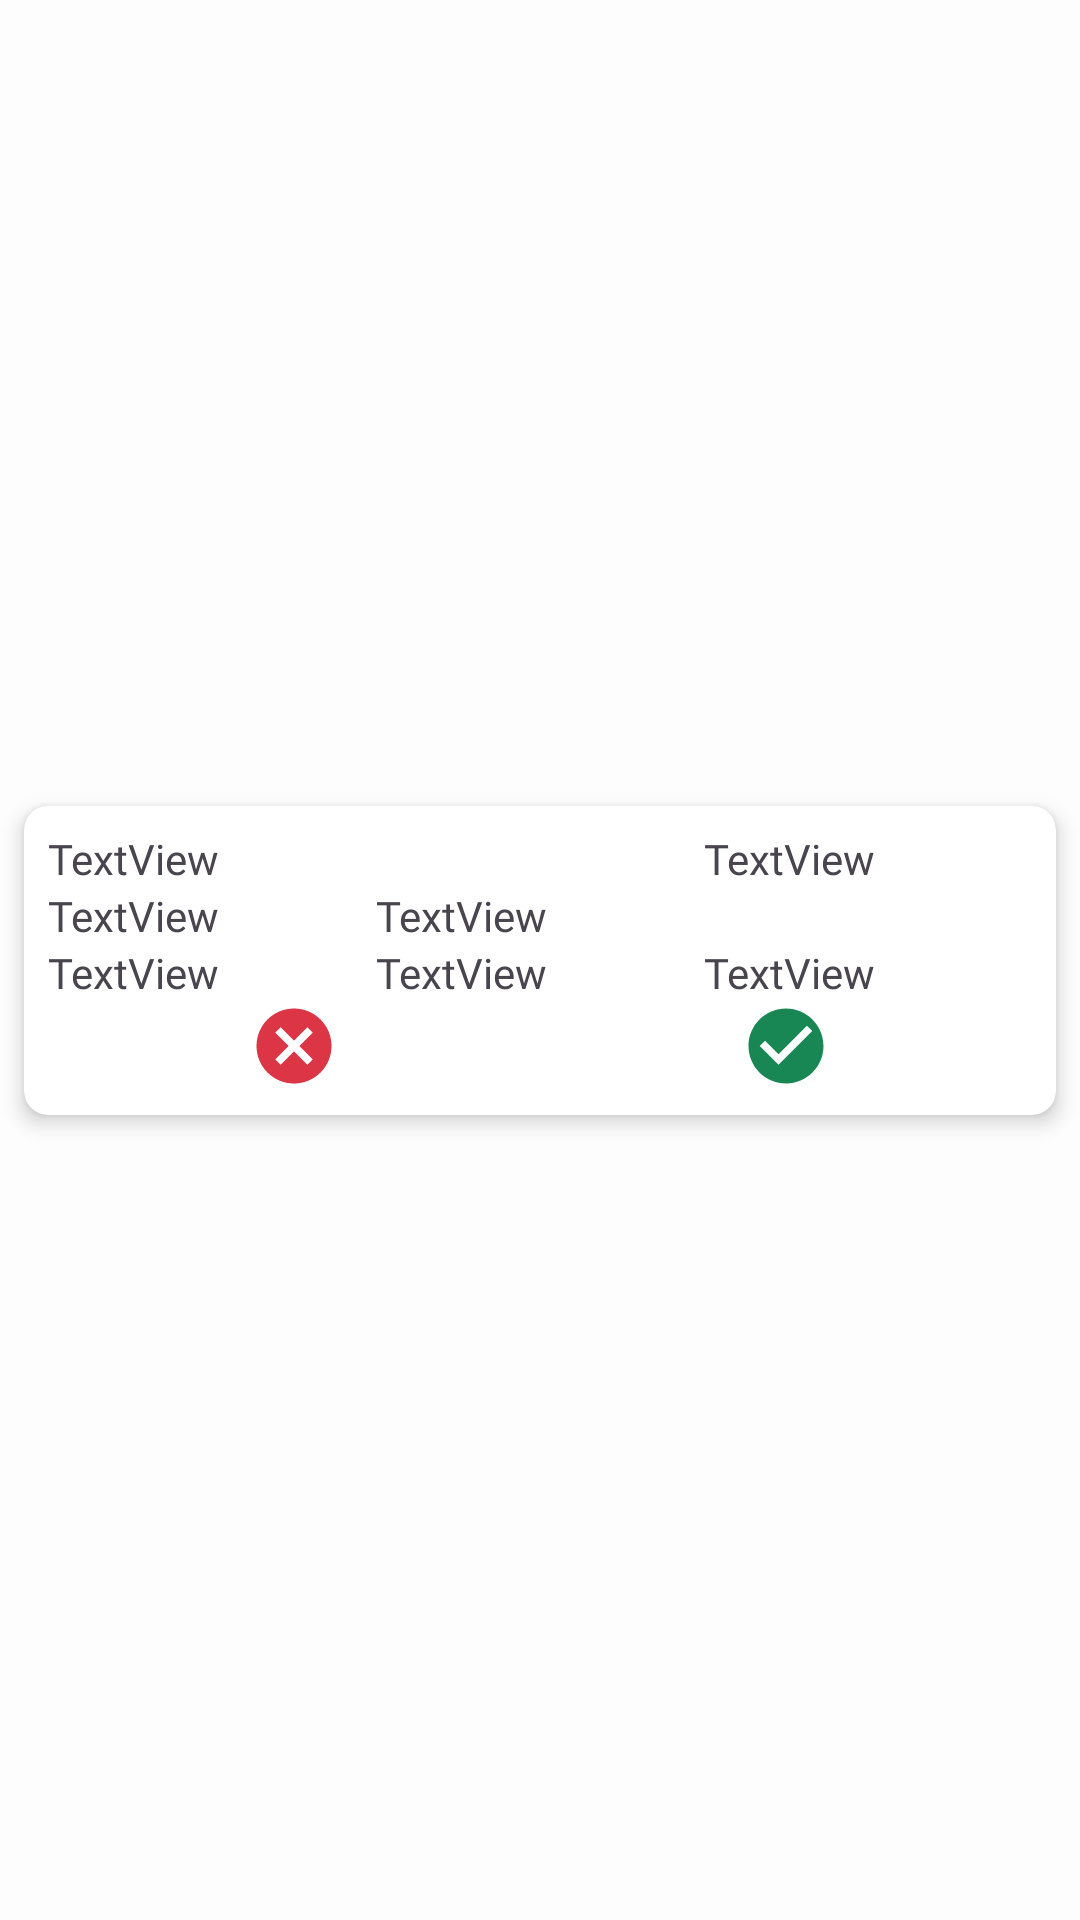

Locate icon controls on the screen. Image size 1080w x 1920h, boxes as (x1, y1, x2, y2).
cancel: (256, 1008, 332, 1084)
check circle: (748, 1008, 824, 1084)
